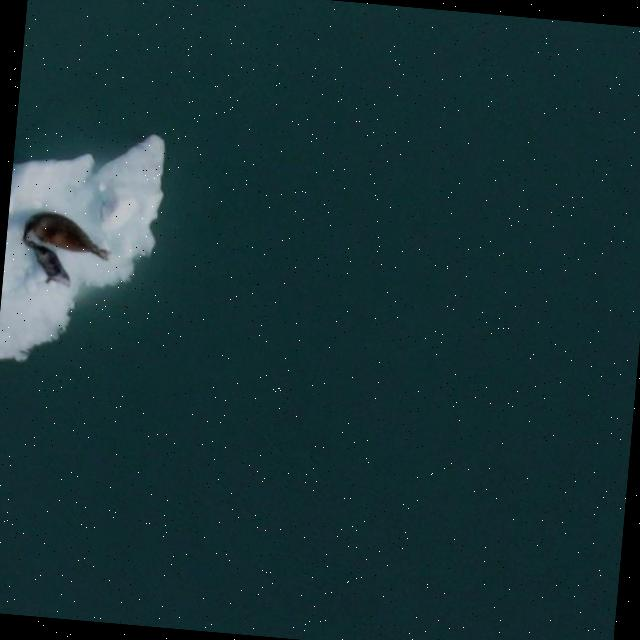seal: (24, 212, 109, 262), (25, 237, 70, 284)
